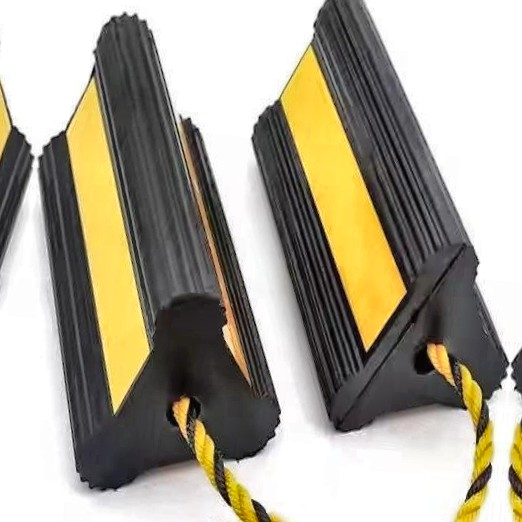chock: (9, 3, 318, 512), (222, 0, 522, 448)
